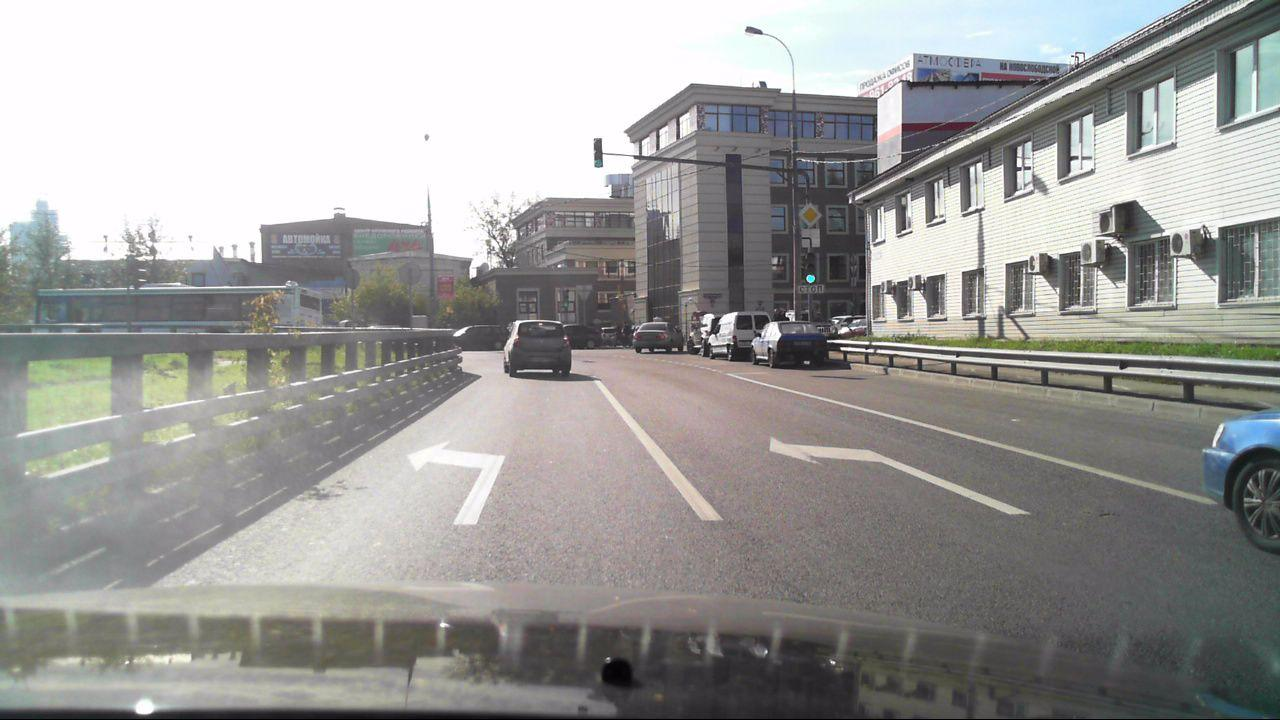2_1: (799, 201, 822, 225)
6_16: (799, 284, 825, 293)
8_13: (800, 227, 822, 248)
